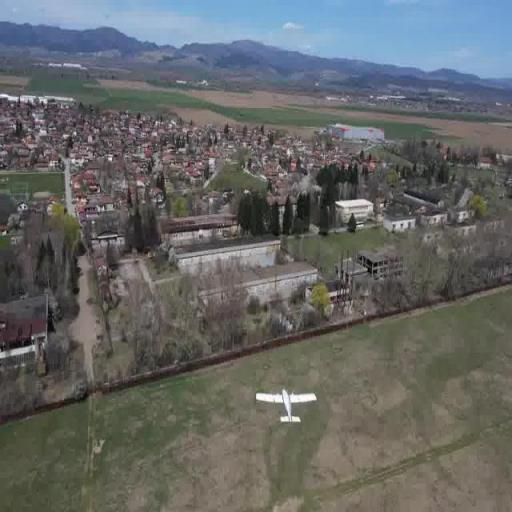uav: (254, 382, 322, 432)
